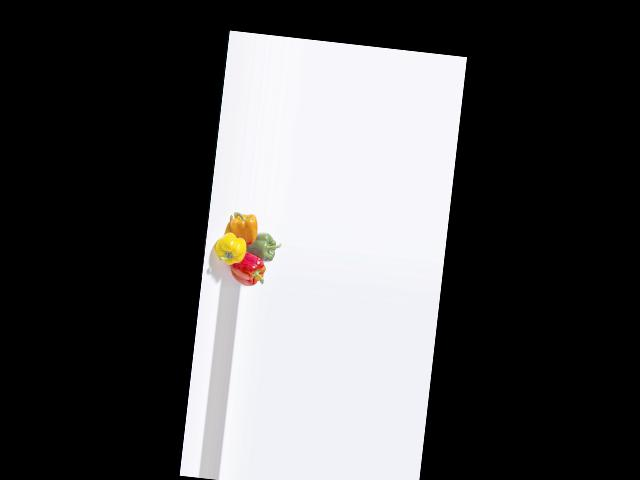bell_pepper: (228, 251, 270, 289)
